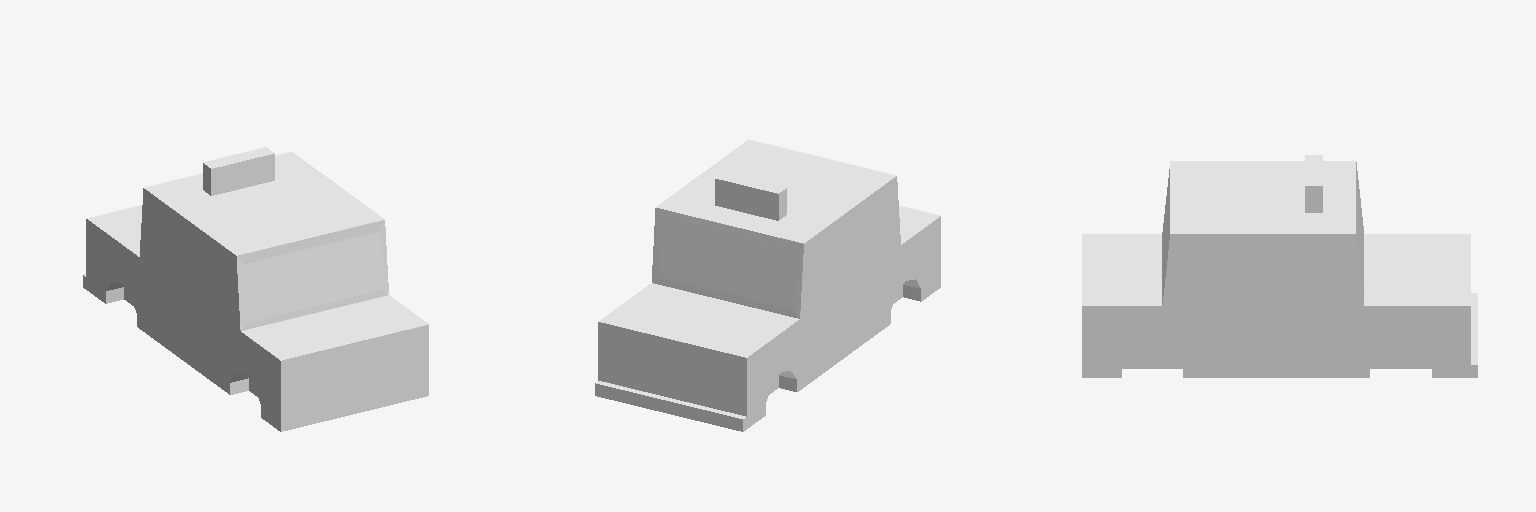
Rendered from taxi.obj.
3 renders of one model, left to right at view 1: azimuth 30°, elevation 25°; view 2: azimuth 150°, elevation 25°; view 3: azimuth 270°, elevation 25°, orthographic.
Bounding box in the file's own units: 2.29 × 2.53 × 5.3.